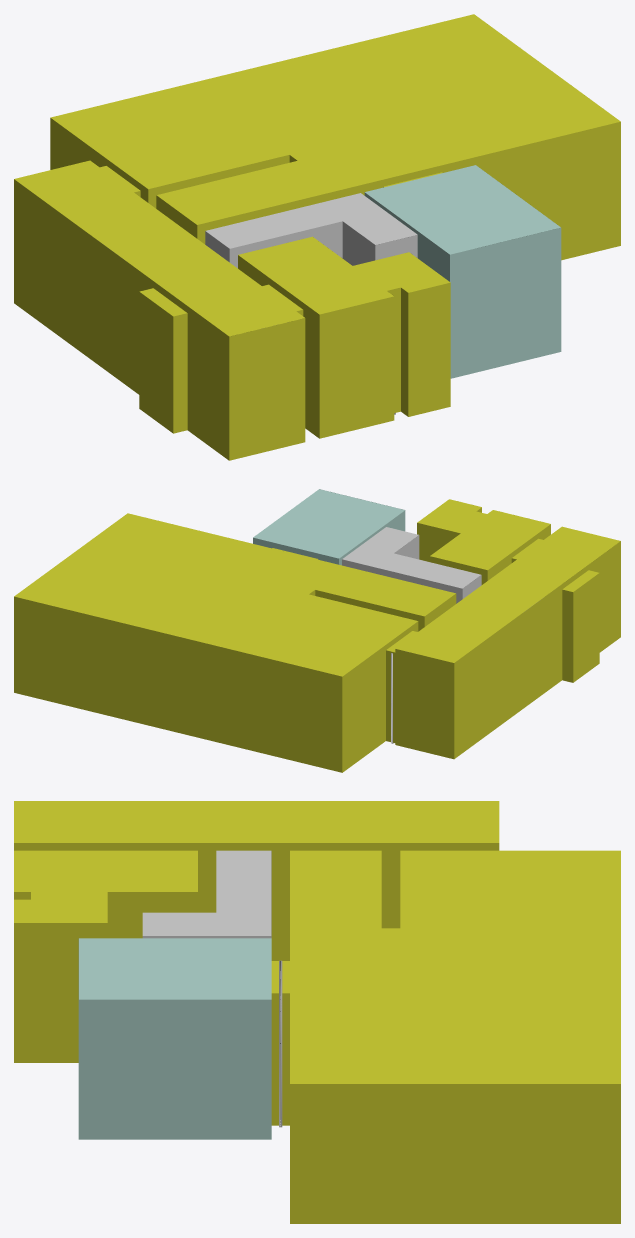
Rendered from bakery2.fbx.
3 renders of one model, top to bottom at view 1: azimuth 30°, elevation 25°; view 2: azimuth 150°, elevation 25°; view 3: azimuth 270°, elevation 25°, orthographic. The views are drawn at different scales.
Parts seen in each view (by area): view 1: Plane; view 2: Plane; view 3: Plane.
Part boxes in pixels (x1,y1,x2,y2): Plane: (14,14,620,460); Plane: (14,489,620,772); Plane: (14,801,620,1223).
Size of the model in its own units: 1085 by 247 by 958.
